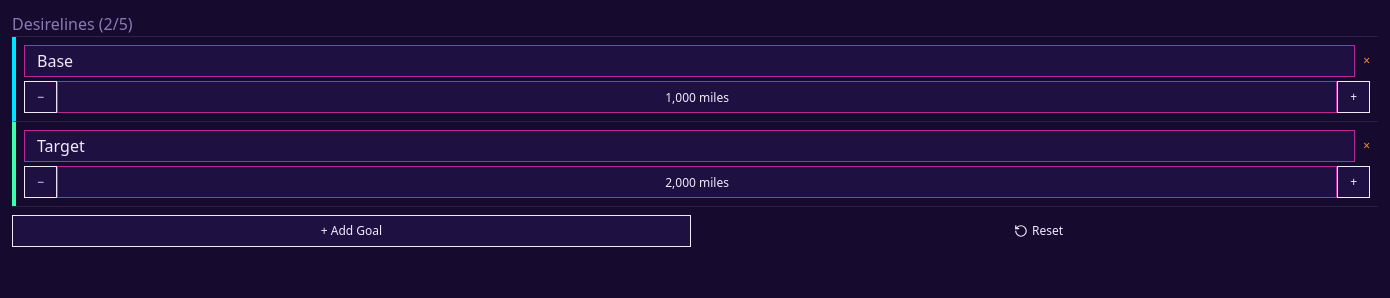
GoalControls › Inline Validation › clears error when user starts typing
The image size is (1390, 298).
Note: Enter edit mode
Step 1. Replace the text in the field showing "1000" with "-100" → x=697, y=97, box left=57, top=81, right=1337, bottom=113
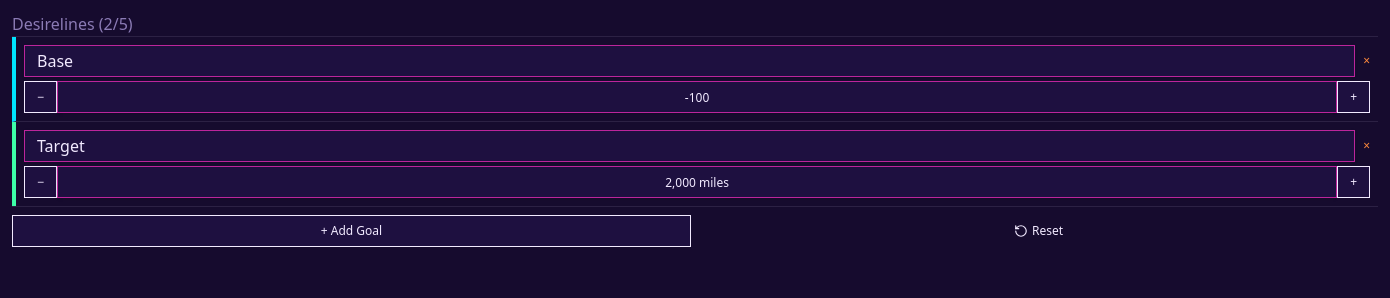
Step 2. Leave the field showing "1000", box left=57, top=81, right=1337, bottom=113
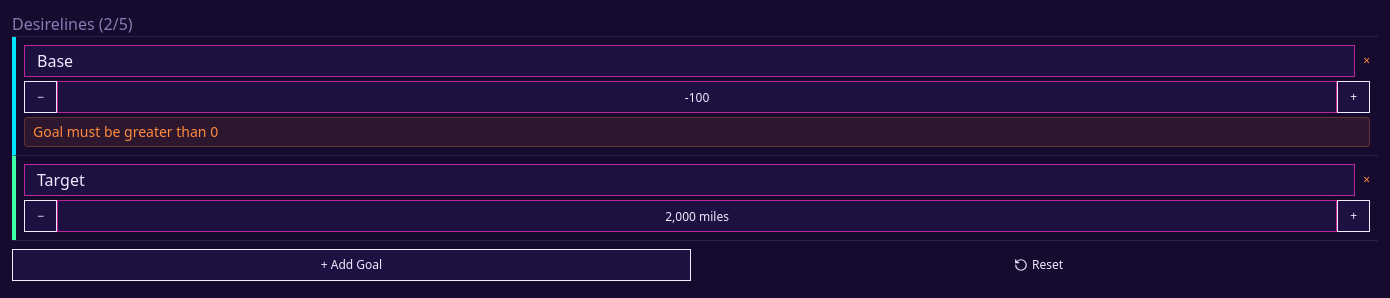
expect the message "Goal must be greater than 0" is shown: met, box left=24, top=117, right=1370, bottom=147
Note: Start typing again
Step 3. Replace the text in the field showing "1000" with "1500" → x=697, y=97, box left=57, top=81, right=1337, bottom=113
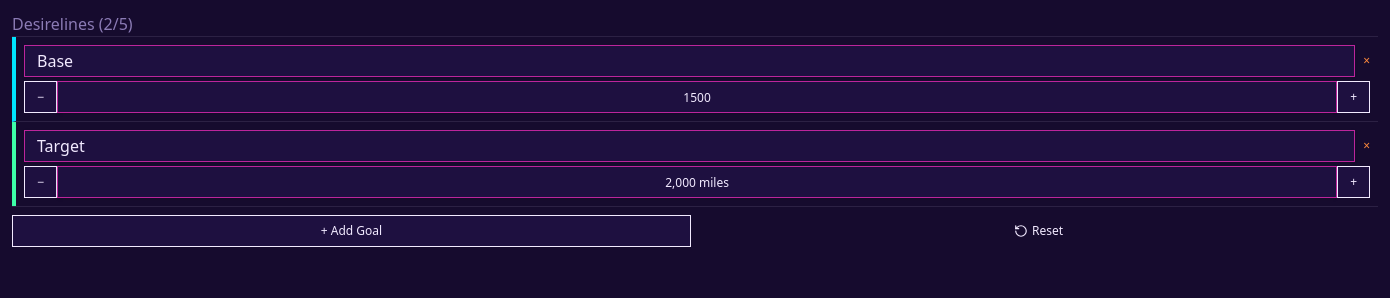
expect the message "Goal must be greater than 0" is gone: met
